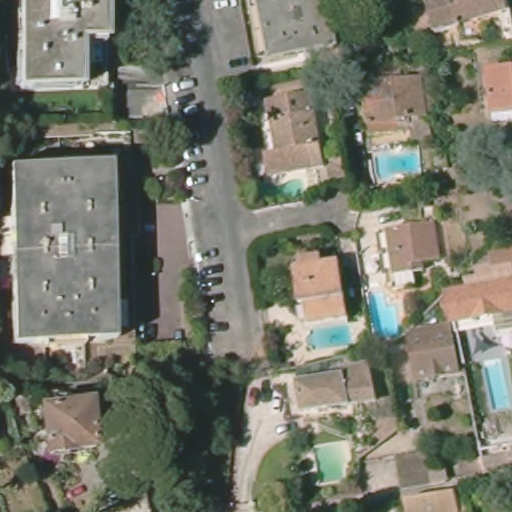pool: (366, 288, 402, 341), (372, 147, 424, 183), (312, 441, 350, 486), (481, 357, 512, 412), (305, 323, 354, 351), (269, 177, 311, 204)
